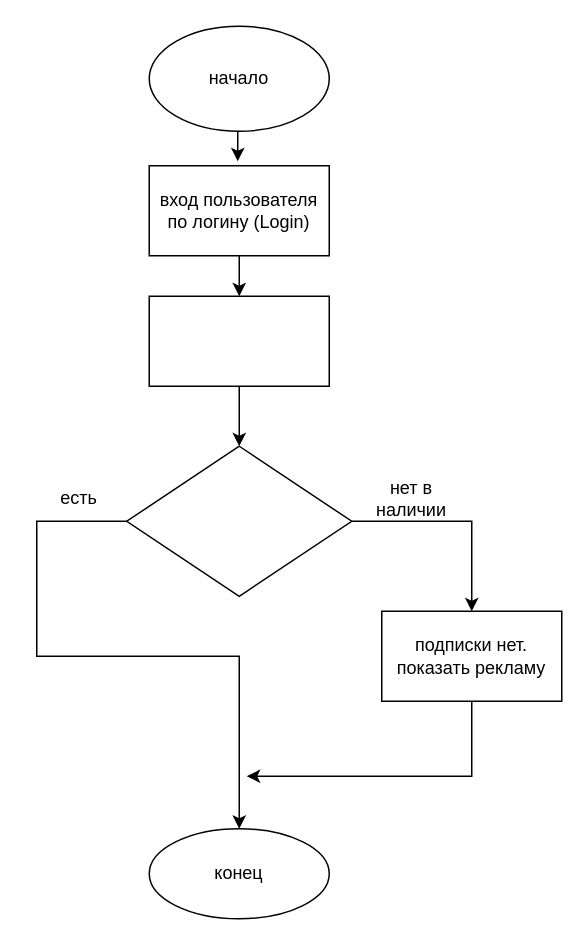
The diagram is 588 pixels wide and 945 high, and some of its shapes have lost their labels. The centre of each missing label's shape, as x and y in pixels:
"приветствие пользователя по имени (Name)" belongs at point 238,340.
"проверка наличия премиум подписки" belongs at point 238,520.
